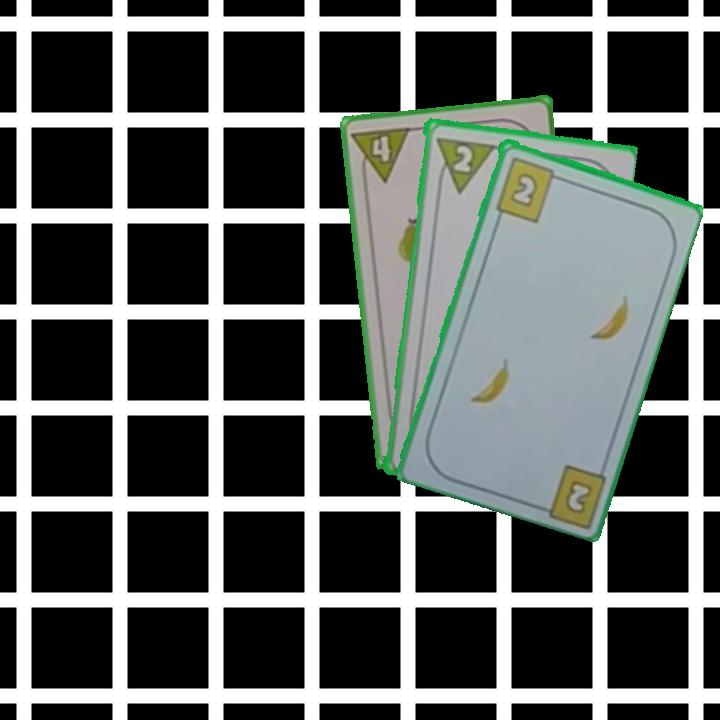2b: (492, 153, 565, 224), (561, 475, 596, 516)
2p: (431, 133, 495, 195)
4p: (348, 123, 413, 187)
